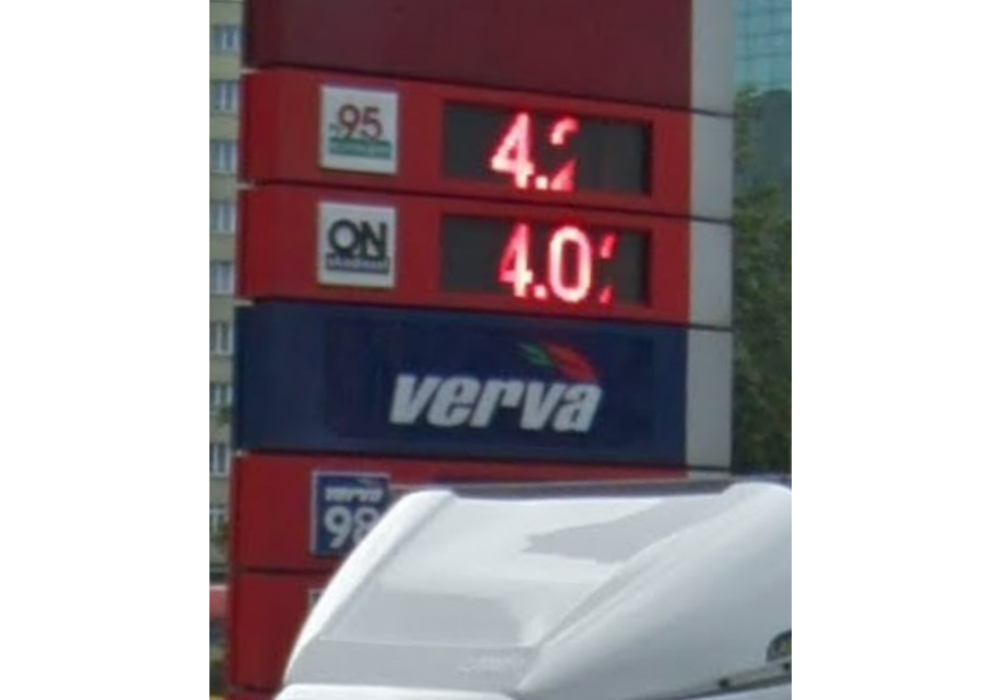ON: (312, 197, 400, 291)
PB95: (314, 80, 398, 172)
PB98: (308, 467, 393, 563)
